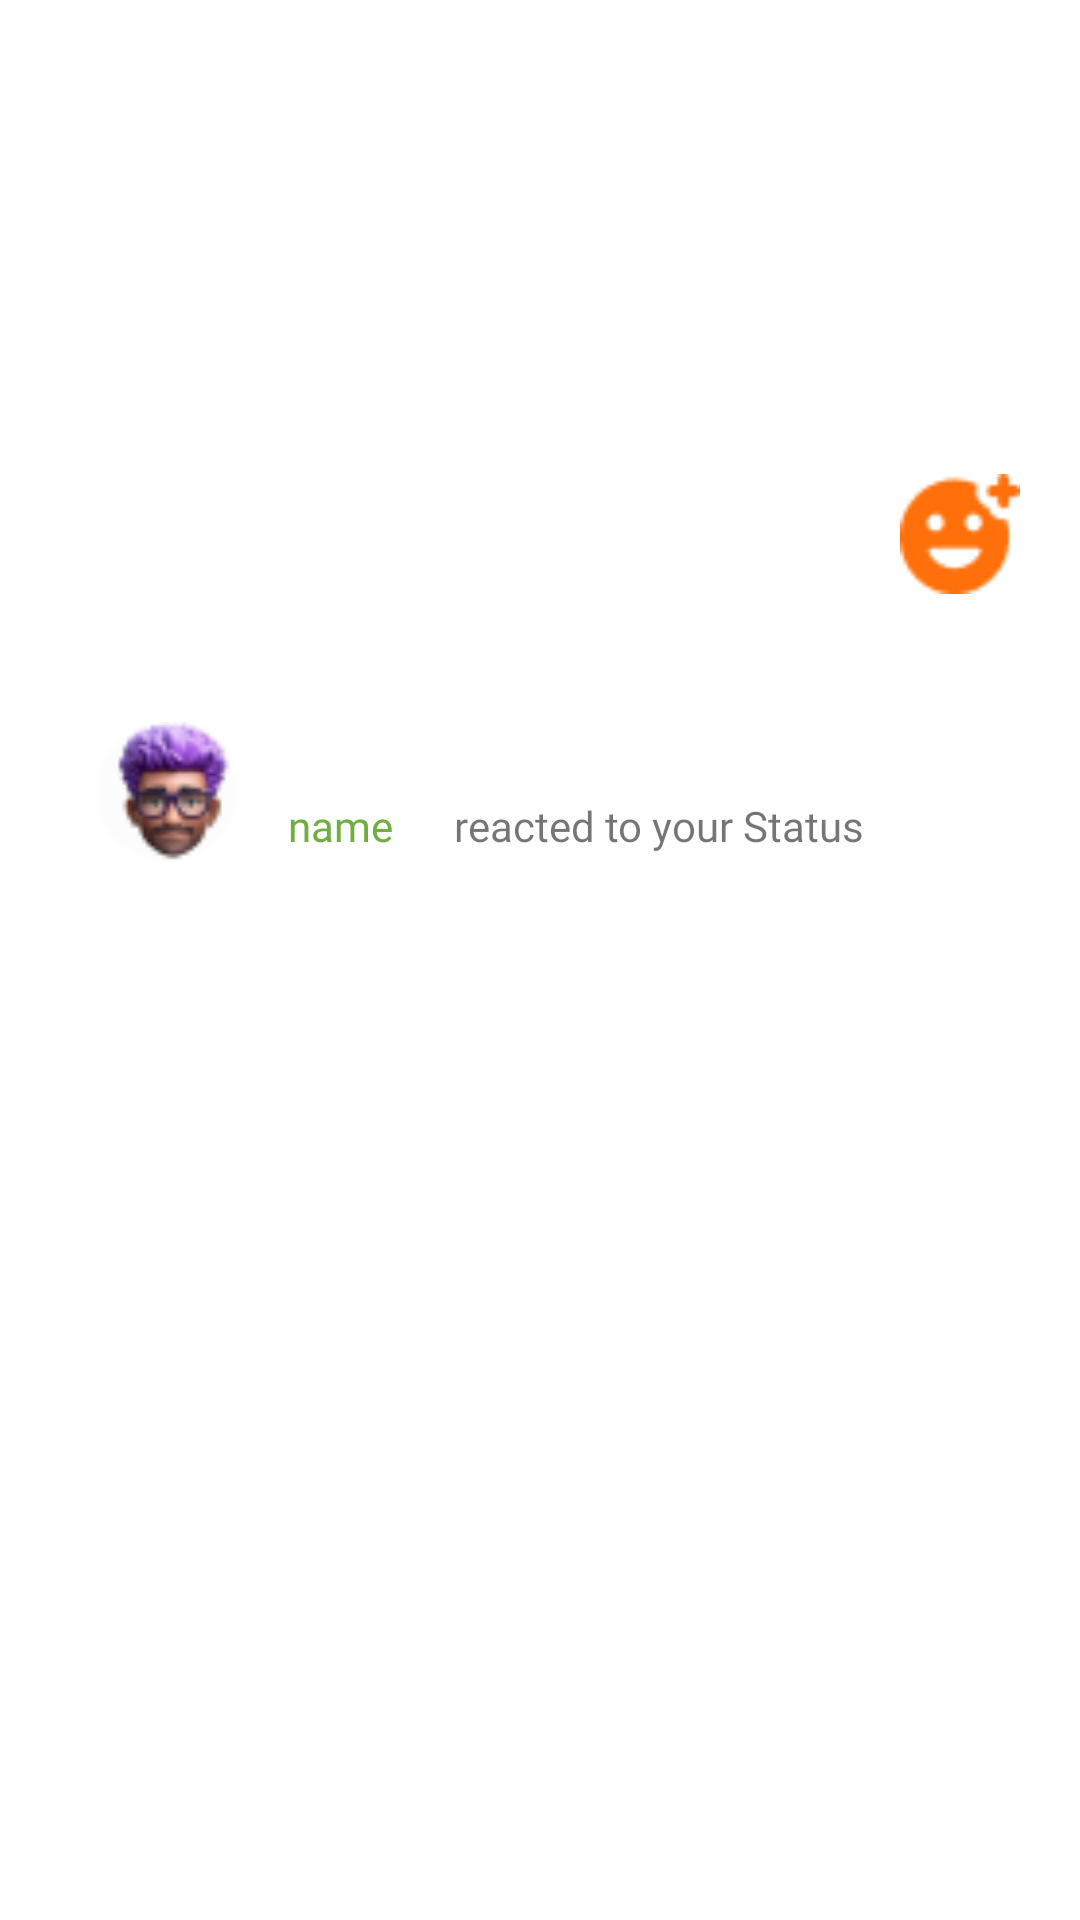

Screen size 1080x1920. Icon name, then its box in pixels as (x1, y1, x2, y2):
add friend: (900, 474, 1020, 594)
friend avartar: (118, 724, 229, 859)
